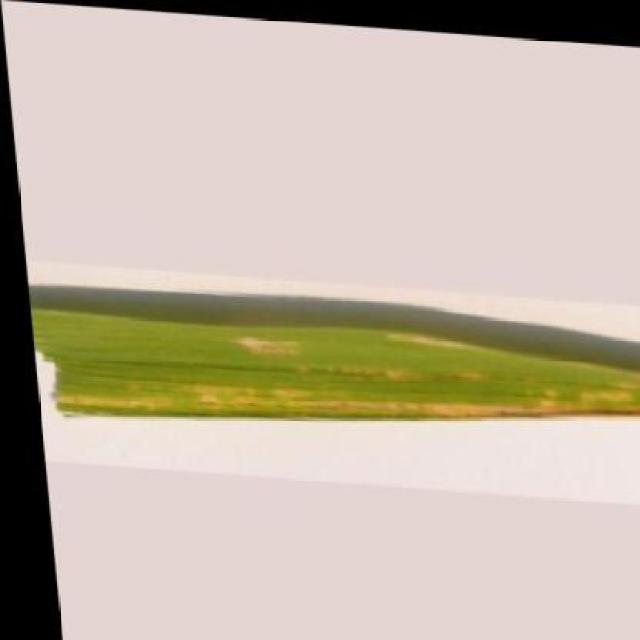Brown_Spot: (21, 296, 640, 453)
